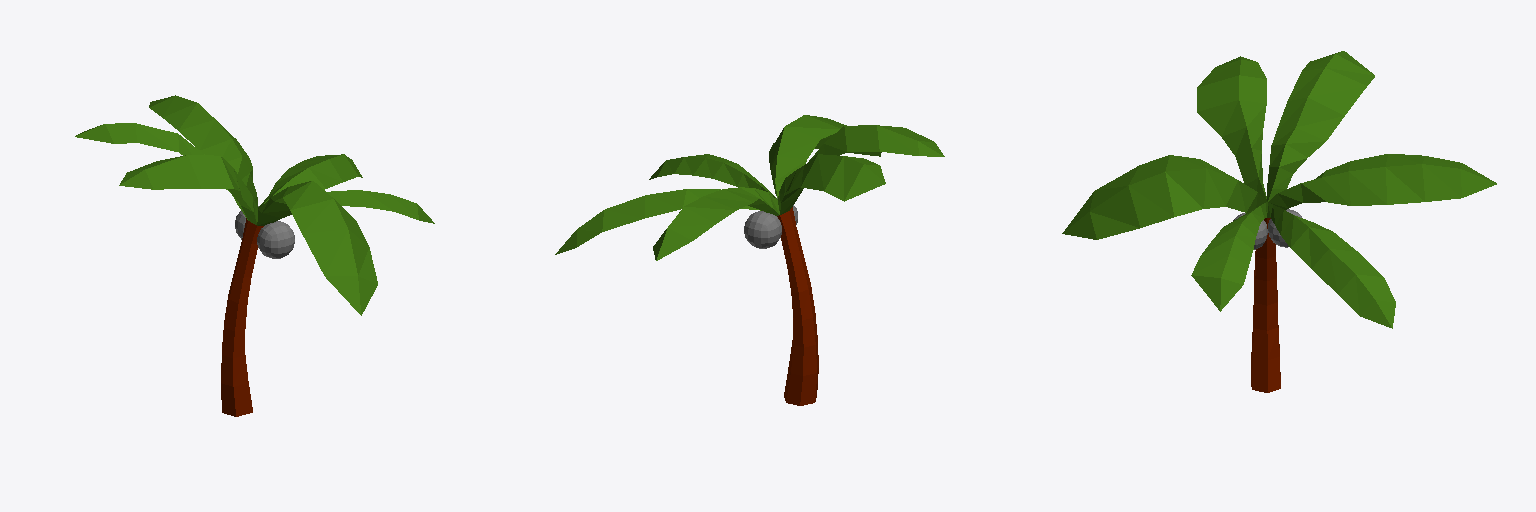
File: palmtree3.obj
3 views of the same model, side by side, from view 1: azimuth 30°, elevation 25°; view 2: azimuth 150°, elevation 25°; view 3: azimuth 270°, elevation 25° (orthographic).
Parts seen in each view (by area): view 1: polySurface1, pasted__pCube1 group; view 2: polySurface1, pCube1; view 3: polySurface1.
Part boxes in pixels (x1,y1,x2,y2): polySurface1: (75, 95, 434, 416); pasted__pCube1 group: (257, 221, 294, 258); polySurface1: (555, 115, 944, 405); pCube1: (744, 211, 781, 248); polySurface1: (1062, 51, 1496, 392).
Bounding box in the file's own units: 832 × 719 × 1000.